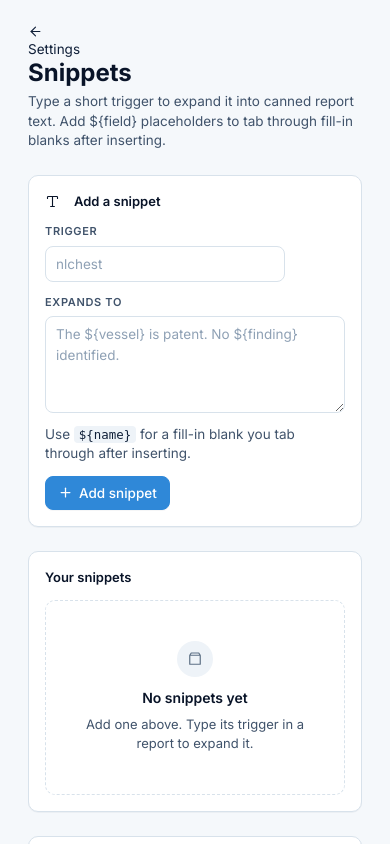
SnippetsPage › deletes a snippet
The width and height of the screenshot is (390, 844).
In the field labelled "Trigger": [165, 264] box [45,246,285,282], type "nl"
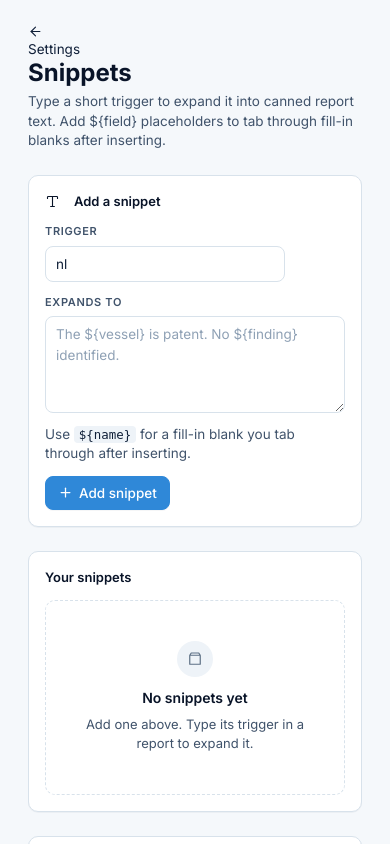
In the text box labelled "Expands to": [195, 365] box [45,316,345,414], type "No acute abnormality."
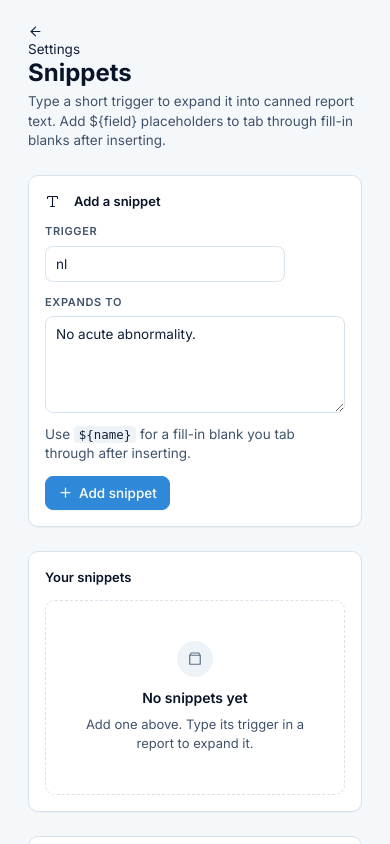
Click the button "Add snippet": [107, 493] box [45,476,170,510]
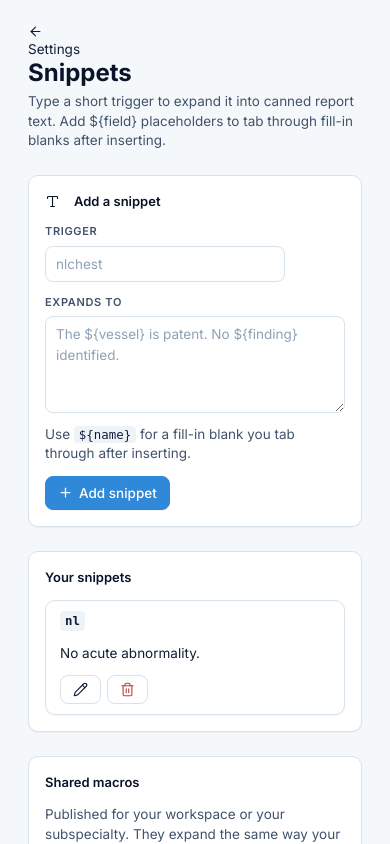
Now the text "nl" is shown, box [60,611,85,631]
Click the button named "delete nl": [128, 690] box [107,676,148,704]
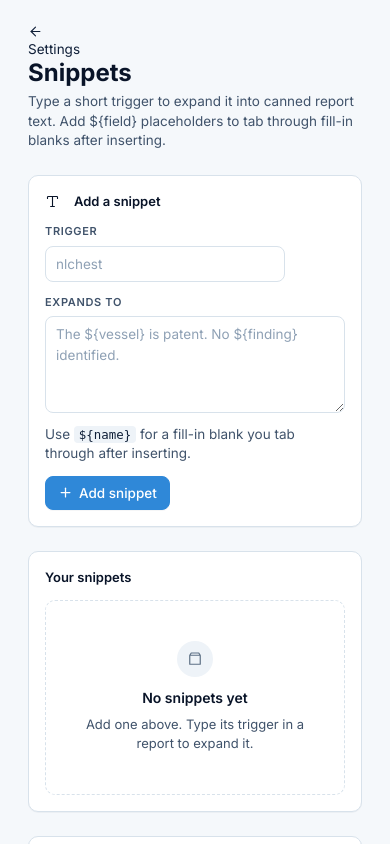
Now the text "No snippets yet" is shown, box [142,689,248,707]
